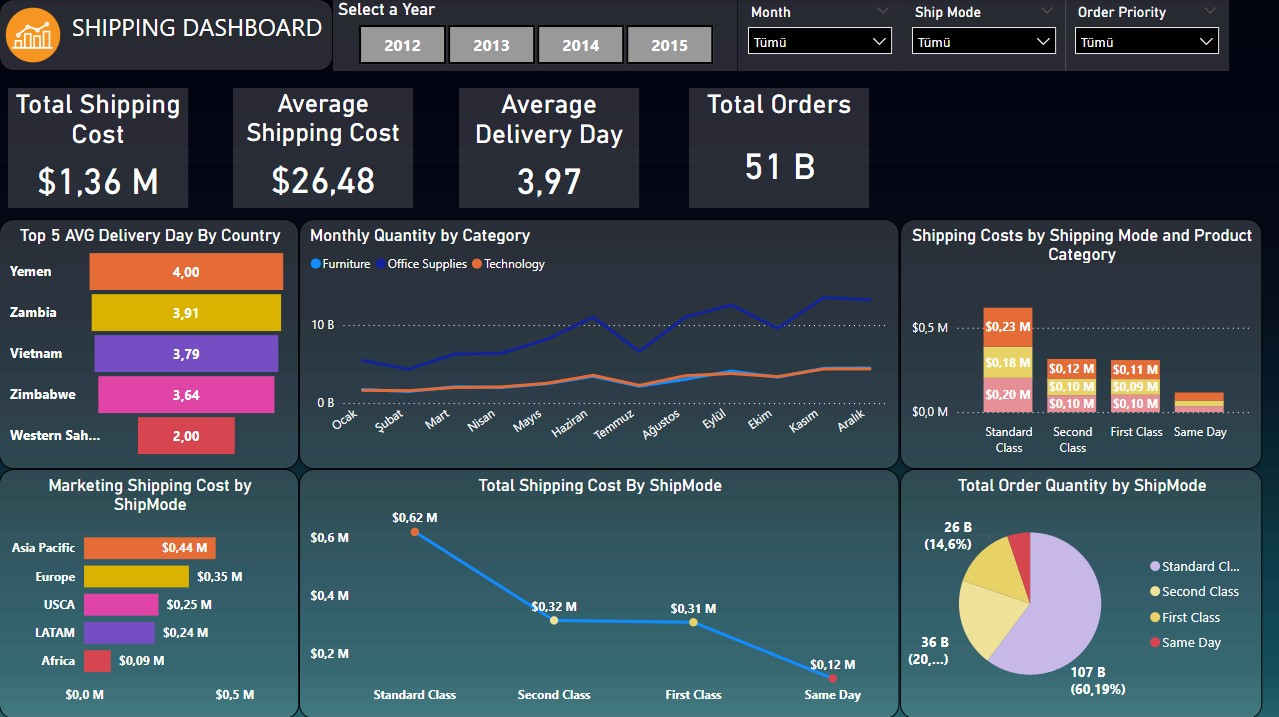

This screenshot's page, from the dashboard's own definition file:
{"tool":"powerbi","page":{"name":"Shipping Dashboard","canvas":[1280,720],"ordinal":2},"visuals":[{"type":"textbox","box":[0,0,334,72],"z":0},{"type":"slicer","fields":{"Values":["Orders.Ship Mode"]},"box":[902,0,164,72],"z":1000},{"type":"slicer","fields":{"Values":["Orders.Order Date.Varyasyon.Tarih Hiyerarşisi.Ay"]},"box":[738,0,164,72],"z":2000},{"type":"slicer","fields":{"Values":["Orders.Order Priority"]},"box":[1065.7,0,164,72.5],"z":3000},{"type":"clusteredBarChart","title":"Marketing Shipping Cost by ShipMode","fields":{"Y":["Olculer.Total Shipping Cost"],"Category":["Orders.Market"]},"box":[0,470,300,250],"z":4000},{"type":"pieChart","title":"Total Order Quantity by ShipMode","fields":{"Y":["Olculer.Total Qty's Sold"],"Category":["Orders.Ship Mode"]},"box":[900,470,362,250],"z":5000},{"type":"funnel","title":"Top 5 AVG Delivery Day By Country","fields":{"Category":["Orders.Country"],"Y":["Olculer.Average Delivery Day"]},"box":[0,220,300,250],"z":6000},{"type":"columnChart","title":"Shipping Costs by Shipping Mode and Product Category","fields":{"Category":["Orders.Ship Mode"],"Y":["Olculer.Total Shipping Cost"],"Series":["Orders.Category"]},"box":[900,220,362,250],"z":7000},{"type":"slicer","title":"Select a Year","fields":{"Values":["Orders.Order Date.Varyasyon.Tarih Hiyerarşisi.Yıl"]},"box":[334,0,404,72],"z":8000},{"type":"image","box":[0,0,67.6,72],"z":9000},{"type":"card","title":"Average Delivery Day","fields":{"Values":["Olculer.Average Delivery Day"]},"box":[460,89,180,120],"z":10000},{"type":"card","title":"Total Orders","fields":{"Values":["Olculer.Total Orders"]},"box":[689,89,180,120],"z":11000},{"type":"card","title":"Average Shipping Cost","fields":{"Values":["Olculer.Average Shipping Cost"]},"box":[234,89,180,120],"z":12000},{"type":"card","title":"Total Shipping Cost","fields":{"Values":["Olculer.Total Shipping Cost"]},"box":[9,89,180,120],"z":13000},{"type":"lineChart","title":"Monthly Quantity by Category","fields":{"Category":["Orders.Order Date.Varyasyon.Tarih Hiyerarşisi.Ay"],"Series":["Orders.Category"],"Y":["Olculer.Total Qty's Sold"]},"box":[300,220,600,250],"z":14000},{"type":"lineChart","title":"Total Shipping Cost By ShipMode","fields":{"Y":["Olculer.Total Shipping Cost"],"Category":["Orders.Ship Mode"]},"box":[300,470,600,250],"z":15000}]}

Visuals, with their boxes in screenshot pixels (x1, y1, x2, y2), scaled from the page's 1280x720 canvas onto the 1279x717 screenshot:
textbox: 0,0,334,72
slicer - Orders.Ship Mode: 901,0,1065,72
slicer - Orders.Order Date.Varyasyon.Tarih Hiyerarşisi.Ay: 737,0,901,72
slicer - Orders.Order Priority: 1065,0,1229,72
"Marketing Shipping Cost by ShipMode" clusteredBarChart: 0,468,300,716
"Total Order Quantity by ShipMode" pieChart: 899,468,1261,716
"Top 5 AVG Delivery Day By Country" funnel: 0,219,300,468
"Shipping Costs by Shipping Mode and Product Category" columnChart: 899,219,1261,468
"Select a Year" slicer: 334,0,737,72
image: 0,0,68,72
"Average Delivery Day" card: 460,89,640,208
"Total Orders" card: 688,89,868,208
"Average Shipping Cost" card: 234,89,414,208
"Total Shipping Cost" card: 9,89,189,208
"Monthly Quantity by Category" lineChart: 300,219,899,468
"Total Shipping Cost By ShipMode" lineChart: 300,468,899,716
